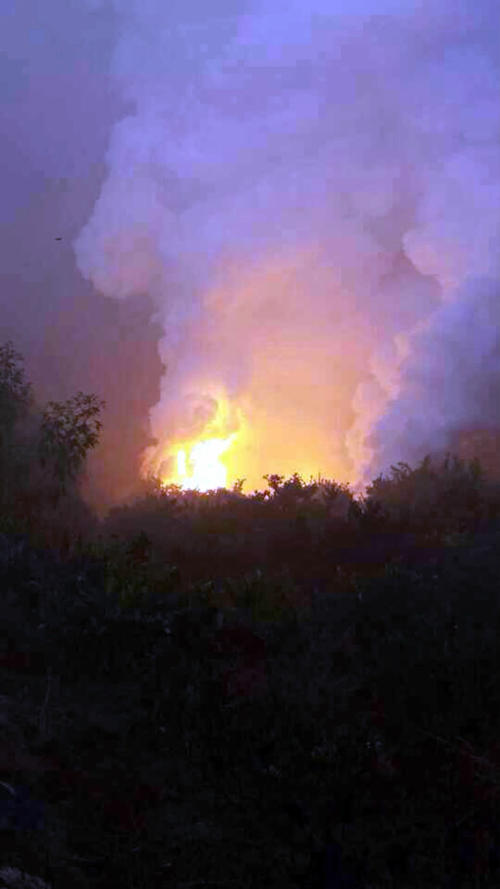fire: (154, 393, 386, 497)
smoke: (124, 5, 490, 339)
